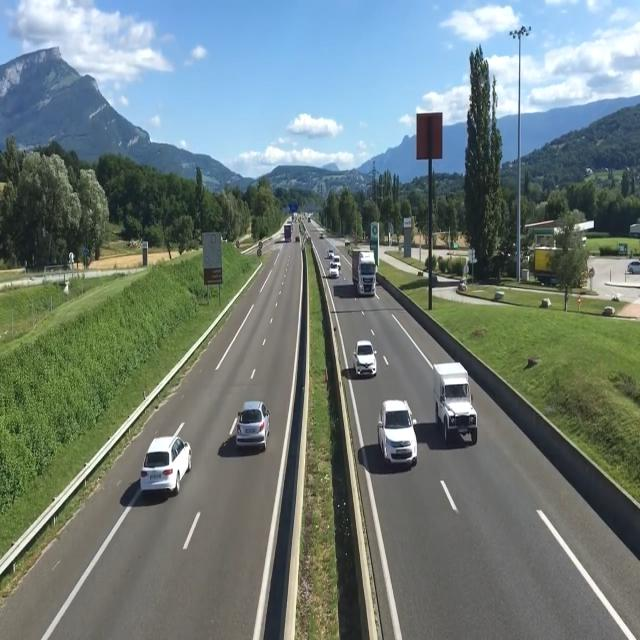Car: (130, 421, 198, 496), (223, 389, 293, 460), (372, 398, 425, 467), (350, 341, 387, 382), (331, 254, 343, 268), (325, 245, 337, 258), (327, 266, 339, 278)
Truck: (420, 360, 490, 438), (348, 240, 390, 298)
